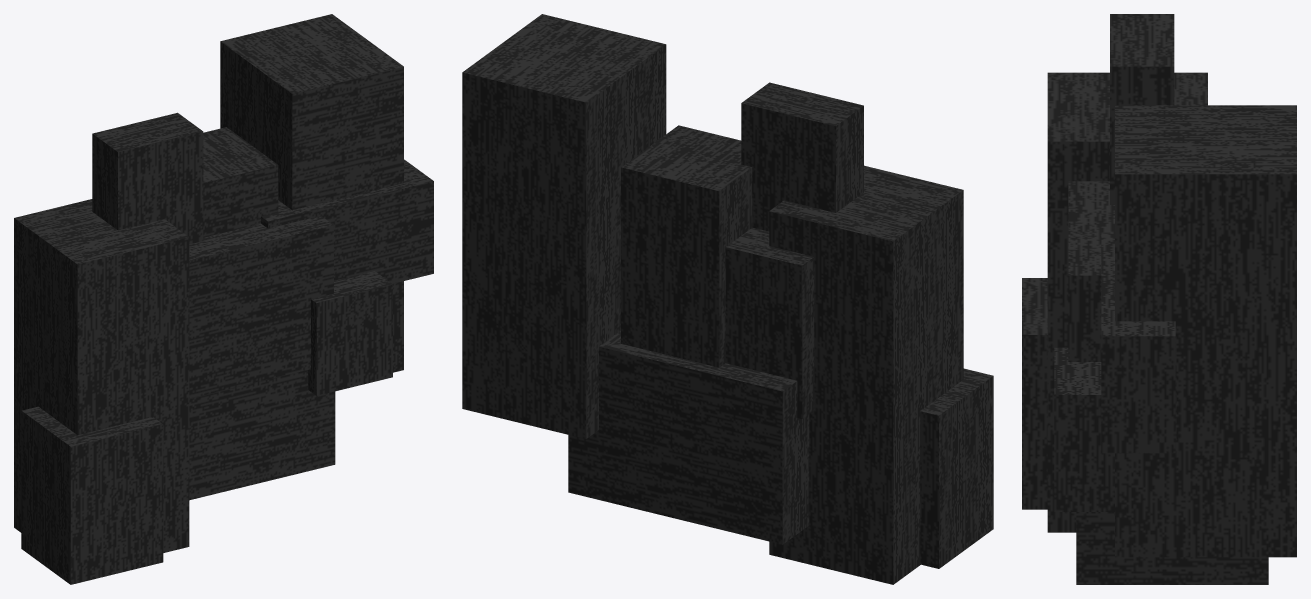
Rendered from plat_ver2.fbx.
The picture shows the model from 3 angles, left to right: view 1: azimuth 30°, elevation 25°; view 2: azimuth 150°, elevation 25°; view 3: azimuth 270°, elevation 25°; orthographic projection. The views are drawn at different scales.
Parts seen in each view (by area): view 1: Cube.076; view 2: Cube.076; view 3: Cube.076.
Boxes of the visible parts, <box> form: Cube.076: <box>14,14,433,584</box>; Cube.076: <box>462,14,993,584</box>; Cube.076: <box>1022,14,1296,584</box>.
Bounding box in the file's own units: 1710 × 1663 × 817.
